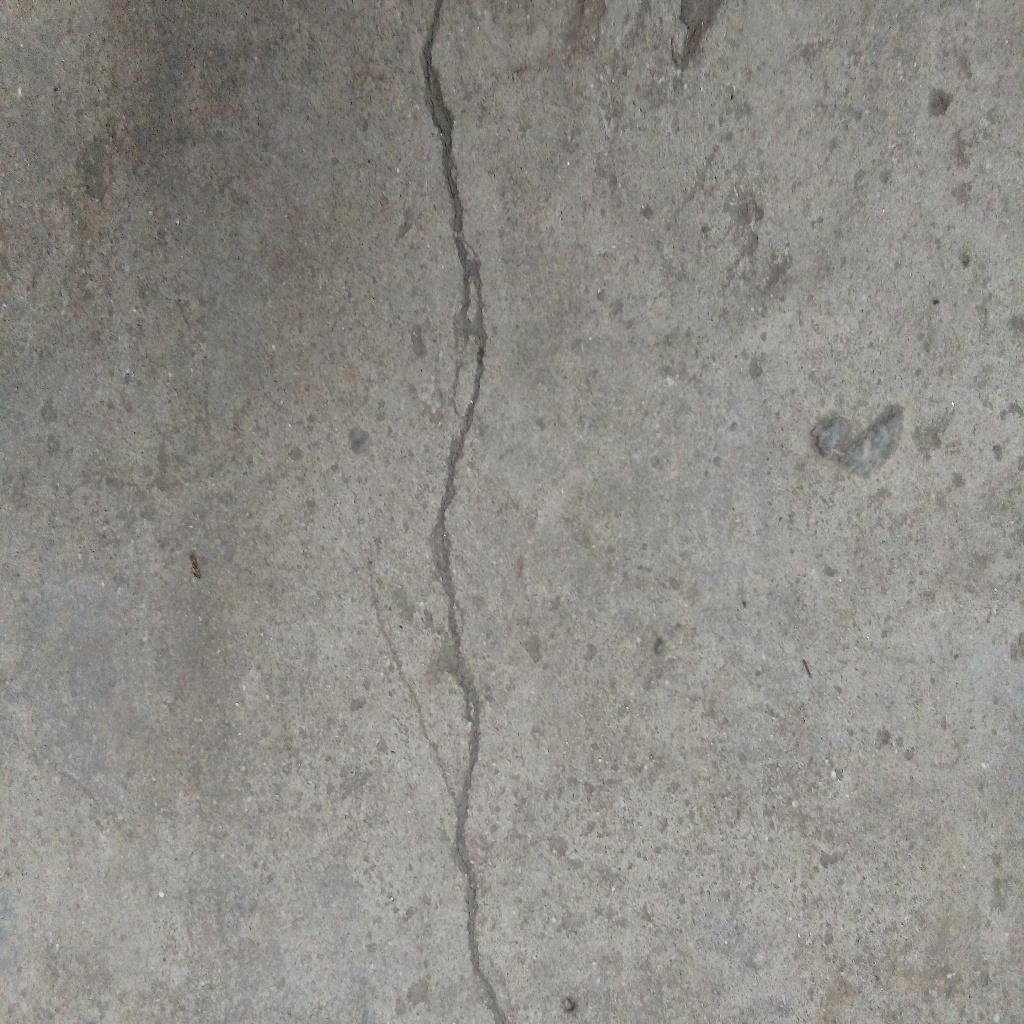Crack: (419, 1, 512, 1024)
